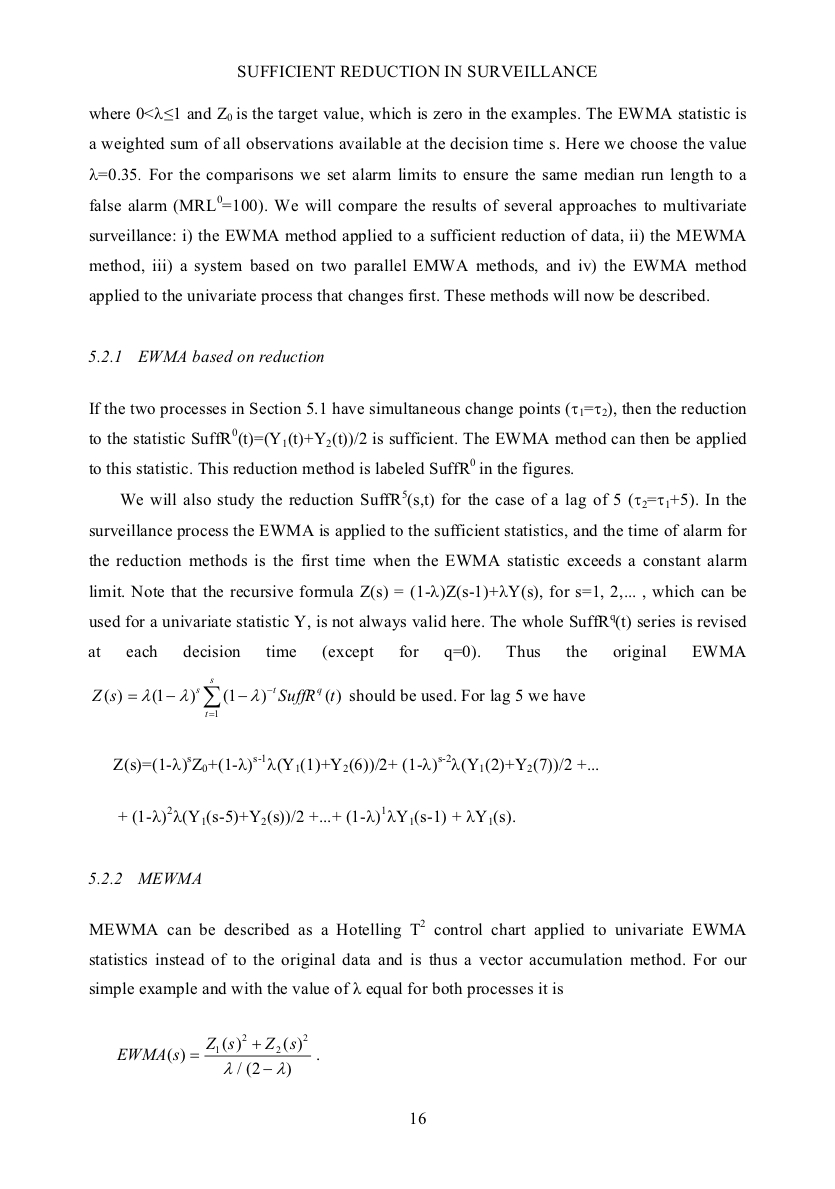formula: (92, 678, 584, 716), (113, 752, 597, 774), (116, 1032, 318, 1078), (118, 805, 514, 826)
